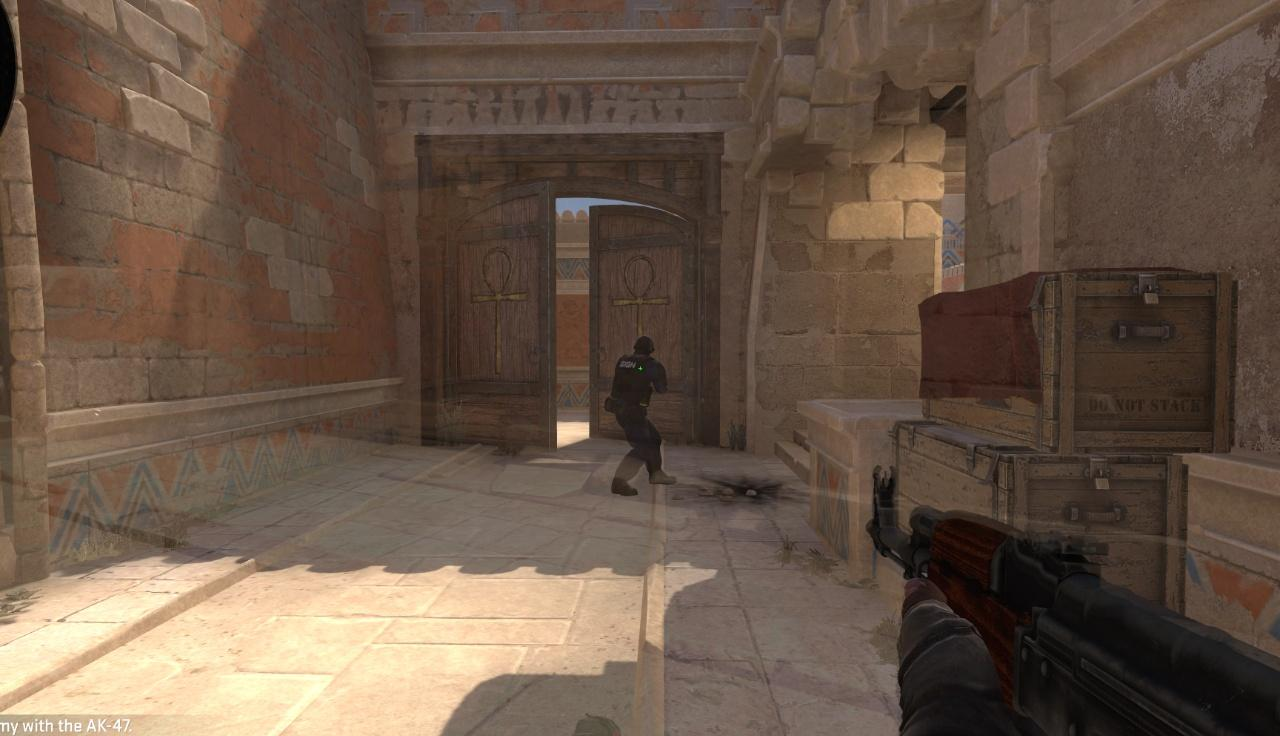ct: (615, 335, 669, 492)
cthead: (632, 336, 654, 356)
rifle: (864, 467, 1280, 736)
